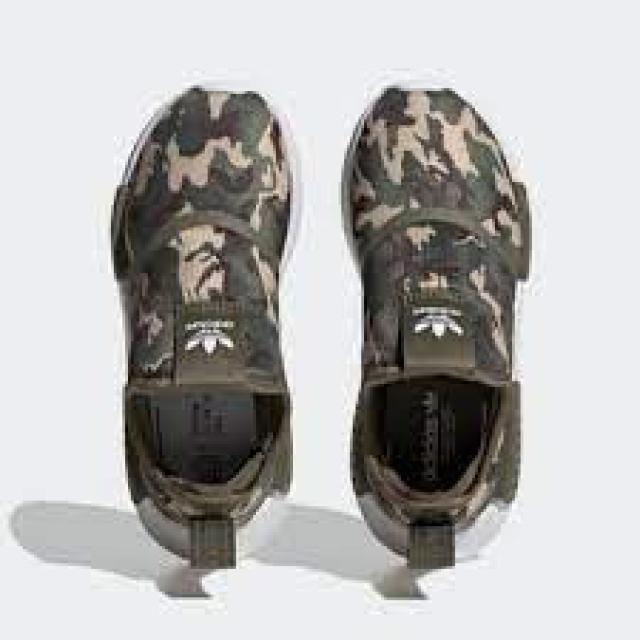shoe: (105, 82, 527, 580)
